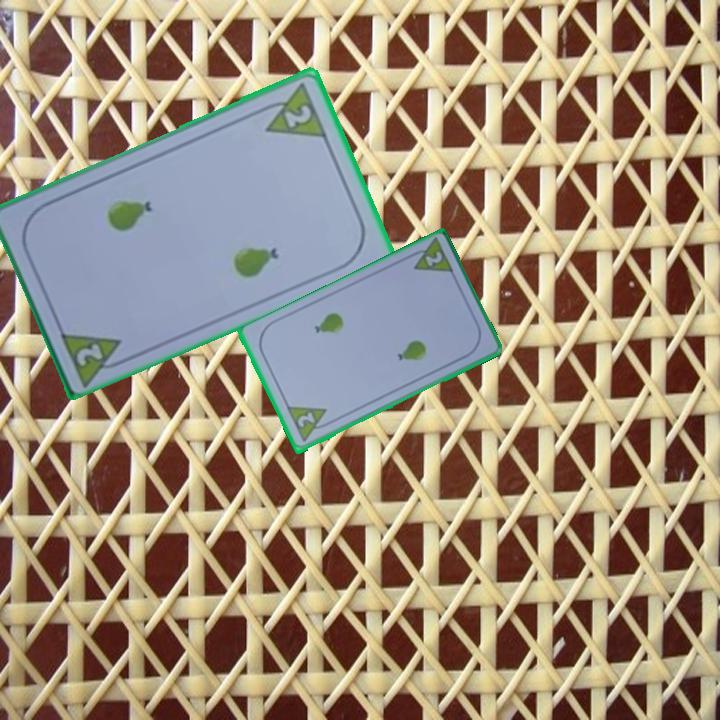2p: (255, 78, 331, 140), (403, 235, 457, 278), (283, 403, 335, 446), (72, 339, 107, 369)
